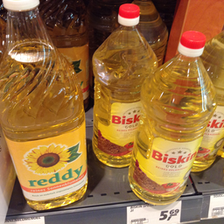oil: (1, 1, 89, 213), (127, 31, 217, 207), (91, 3, 158, 168)
